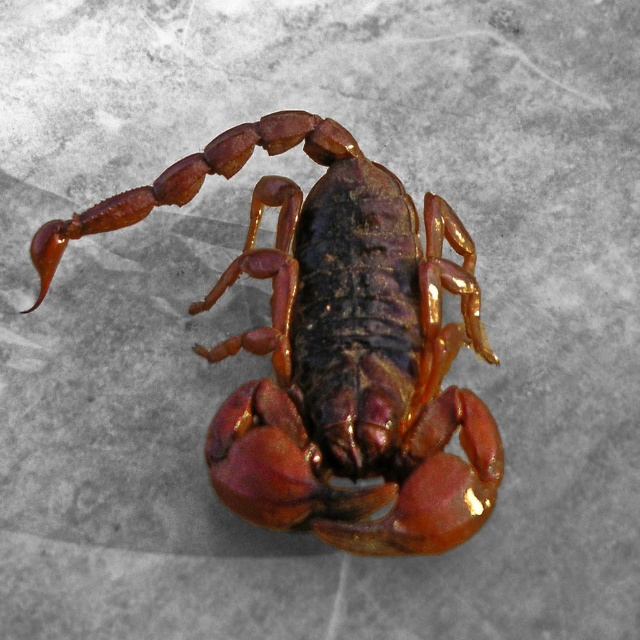Scorpion: (12, 107, 509, 564)
